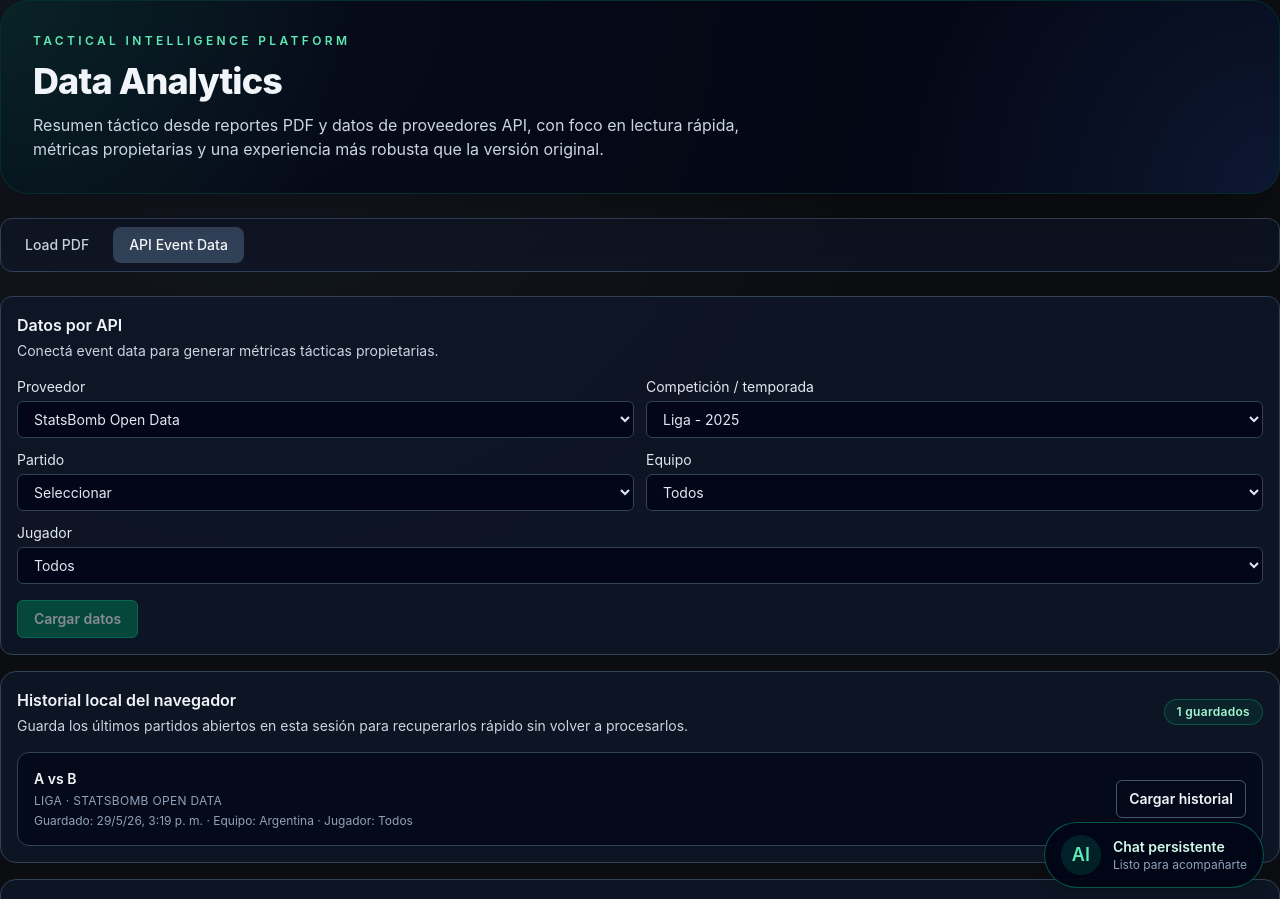
Vertical2Page › recupera un partido desde historial local al cargarlo manualmente
Expected: the heading "Historial local del navegador" is shown, [17,690,236,710]
Click the button with aria-label "desde historial local".
click(1181, 799)  # box [1116,780,1246,818]
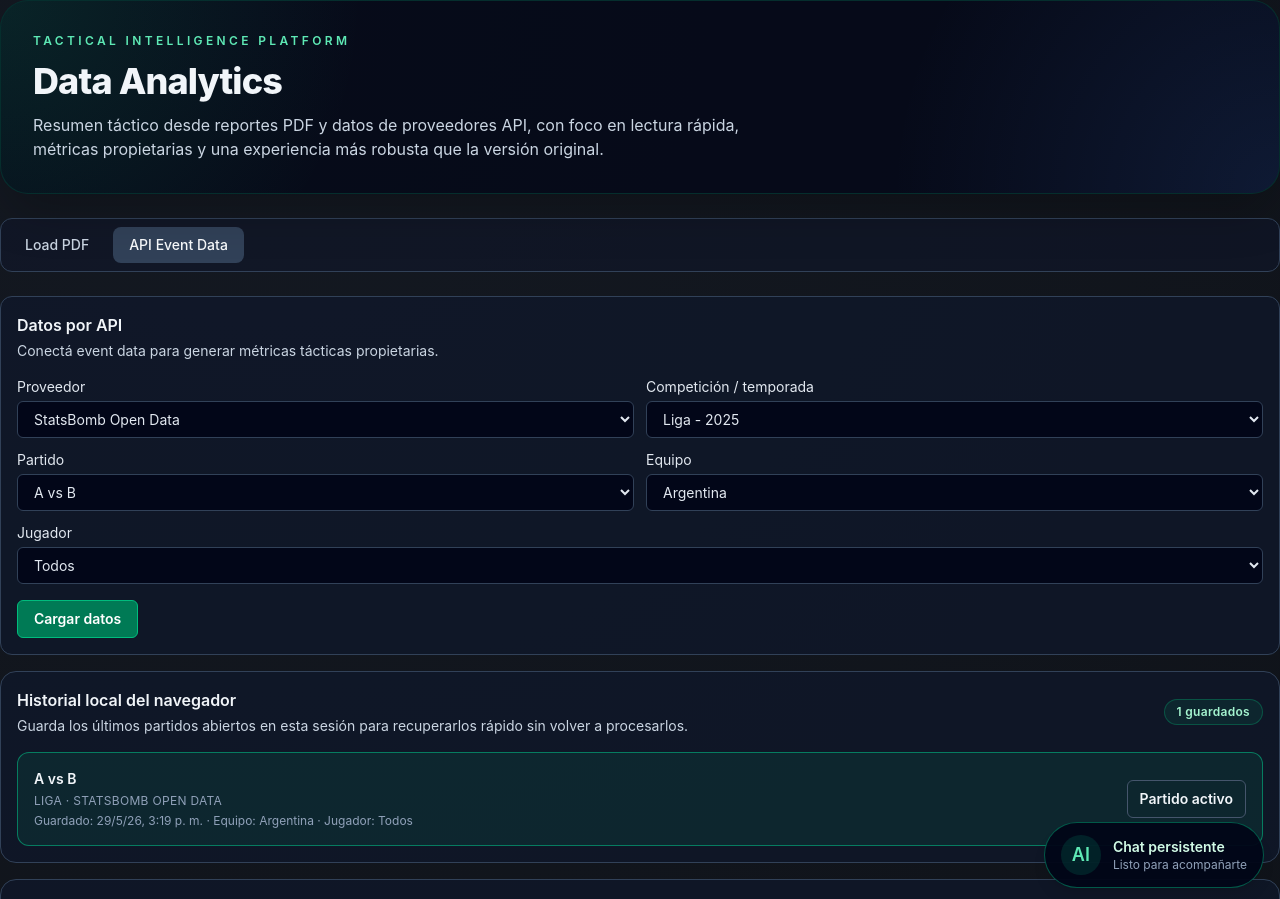
Now the button "Partido activo" is shown, box [1127,780,1246,818]
